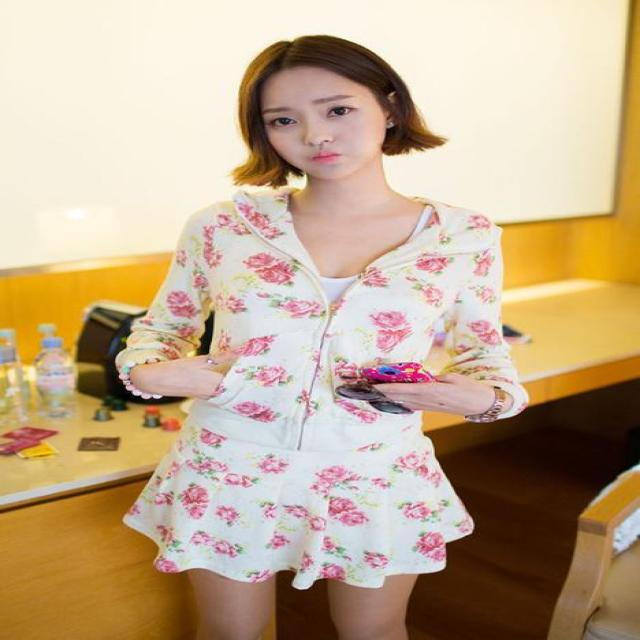long sleeve top: (123, 193, 522, 450)
skirt: (124, 408, 475, 587)
